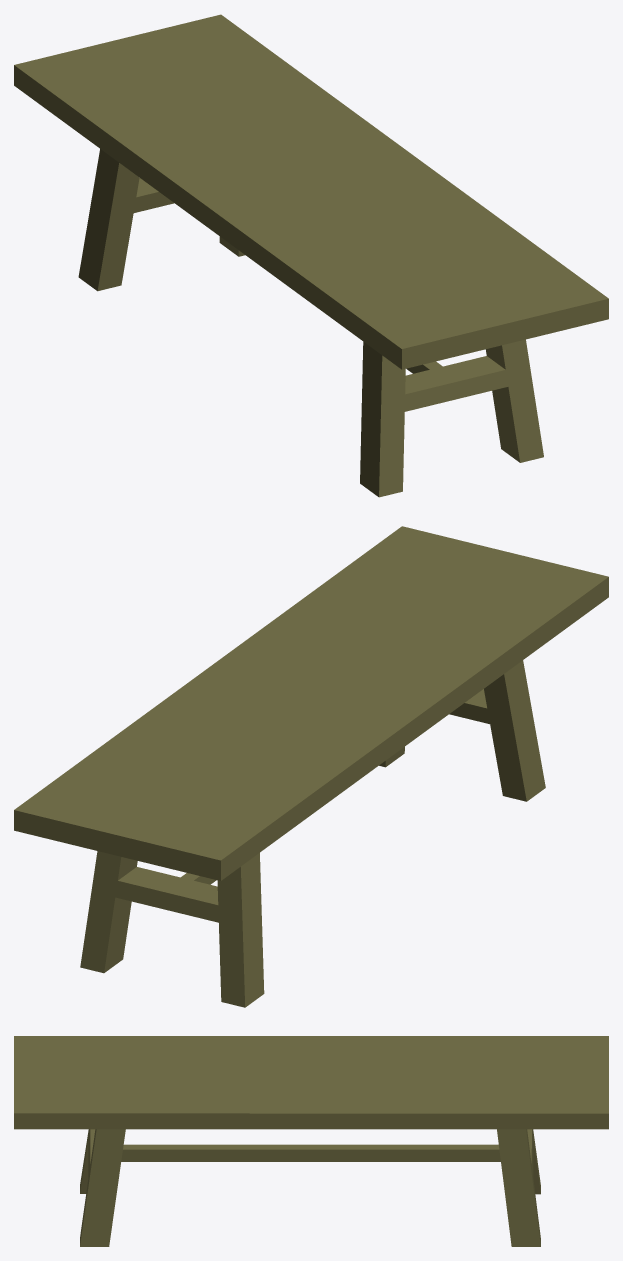
Rendered from Stool.fbx.
The picture shows the model from 3 angles, top to bottom: view 1: azimuth 30°, elevation 25°; view 2: azimuth 150°, elevation 25°; view 3: azimuth 270°, elevation 25°; orthographic projection. The views are drawn at different scales.
Parts seen in each view (by area): view 1: Cube.002; view 2: Cube.002; view 3: Cube.002.
Boxes of the visible parts, <box> form: Cube.002: <box>14,14,608,497</box>; Cube.002: <box>14,526,608,1007</box>; Cube.002: <box>14,1036,608,1246</box>.
Bounding box in the file's own units: 52.82 × 44.98 × 171.
